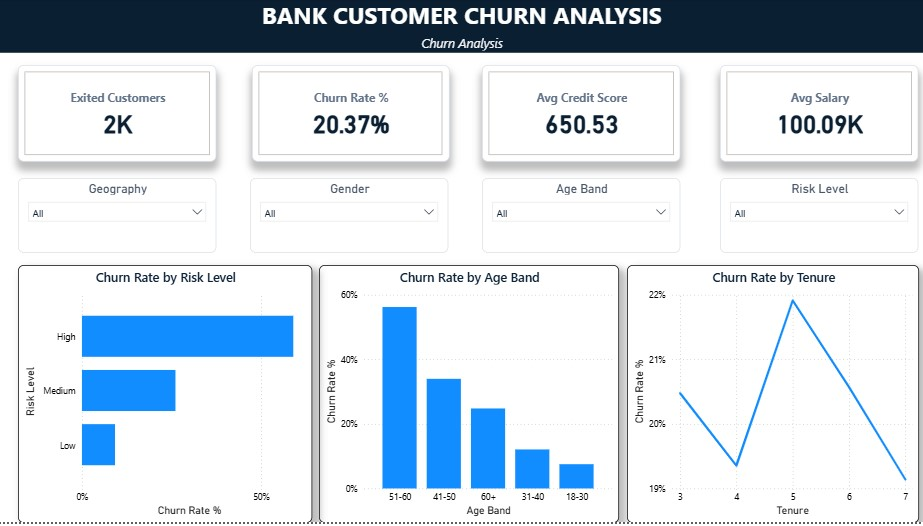

This screenshot's page, from the dashboard's own definition file:
{"tool":"powerbi","page":{"name":"Churn Analysis","canvas":[1280,720],"ordinal":1},"visuals":[{"type":"textbox","title":"BANK CUSTOMER CHURN ANALYSIS","box":[0,0,1280,74.4],"z":0},{"type":"cardVisual","fields":{"Data":["_Measures.Exited Customers"]},"box":[28.5,91,273.1,133.1],"z":1000},{"type":"cardVisual","fields":{"Data":["_Measures.Churn Rate %"]},"box":[350.5,91,271.7,133.1],"z":2000},{"type":"cardVisual","fields":{"Data":["_Measures.Avg Credit Score"]},"box":[667,91,273.1,133.1],"z":3000},{"type":"cardVisual","fields":{"Data":["_Measures.Avg Salary"]},"box":[995.8,91,273.1,133.1],"z":4000},{"type":"slicer","title":"Geography","fields":{"Values":["Geography.GeographyLocation"]},"box":[28.5,245.9,273.1,103.2],"z":5000},{"type":"slicer","title":"Age Band","fields":{"Values":["Bank_Churn.Age Band"]},"box":[667.1,245.7,272.9,102.9],"z":6000},{"type":"slicer","title":"Gender","fields":{"Values":["Gender.GenderCategory"]},"box":[348.6,245.7,272.9,102.9],"z":7000},{"type":"slicer","title":"Risk Level","fields":{"Values":["Bank_Churn.Risk Level"]},"box":[995.8,245.9,273.1,103.2],"z":8000},{"type":"clusteredColumnChart","title":"Churn Rate by Age Band","fields":{"Category":["Bank_Churn.Age Band"],"Y":["_Measures.Churn Rate %"]},"box":[442.9,365.4,413,354.6],"z":9000},{"type":"clusteredBarChart","title":"Churn Rate by Risk Level","fields":{"Category":["Bank_Churn.Risk Level"],"Y":["_Measures.Churn Rate %"]},"box":[28.5,365.4,404.8,354.6],"z":10000},{"type":"lineChart","title":"Churn Rate  by Tenure","fields":{"Category":["Bank_Churn.Tenure"],"Y":["_Measures.Churn Rate %"]},"box":[866.7,365.4,402.1,354.6],"z":11000}]}

Visuals, with their boxes in screenshot pixels (x1, y1, x2, y2), scaled from the page's 1280x720 canvas onto the 923x526 screenshot:
"BANK CUSTOMER CHURN ANALYSIS" textbox: bbox=(0, 0, 922, 54)
cardVisual - _Measures.Exited Customers: bbox=(21, 66, 217, 164)
cardVisual - _Measures.Churn Rate %: bbox=(253, 66, 449, 164)
cardVisual - _Measures.Avg Credit Score: bbox=(481, 66, 678, 164)
cardVisual - _Measures.Avg Salary: bbox=(718, 66, 915, 164)
"Geography" slicer: bbox=(21, 180, 217, 255)
"Age Band" slicer: bbox=(481, 179, 678, 255)
"Gender" slicer: bbox=(251, 179, 448, 255)
"Risk Level" slicer: bbox=(718, 180, 915, 255)
"Churn Rate by Age Band" clusteredColumnChart: bbox=(319, 267, 617, 525)
"Churn Rate by Risk Level" clusteredBarChart: bbox=(21, 267, 312, 525)
"Churn Rate  by Tenure" lineChart: bbox=(625, 267, 915, 525)
